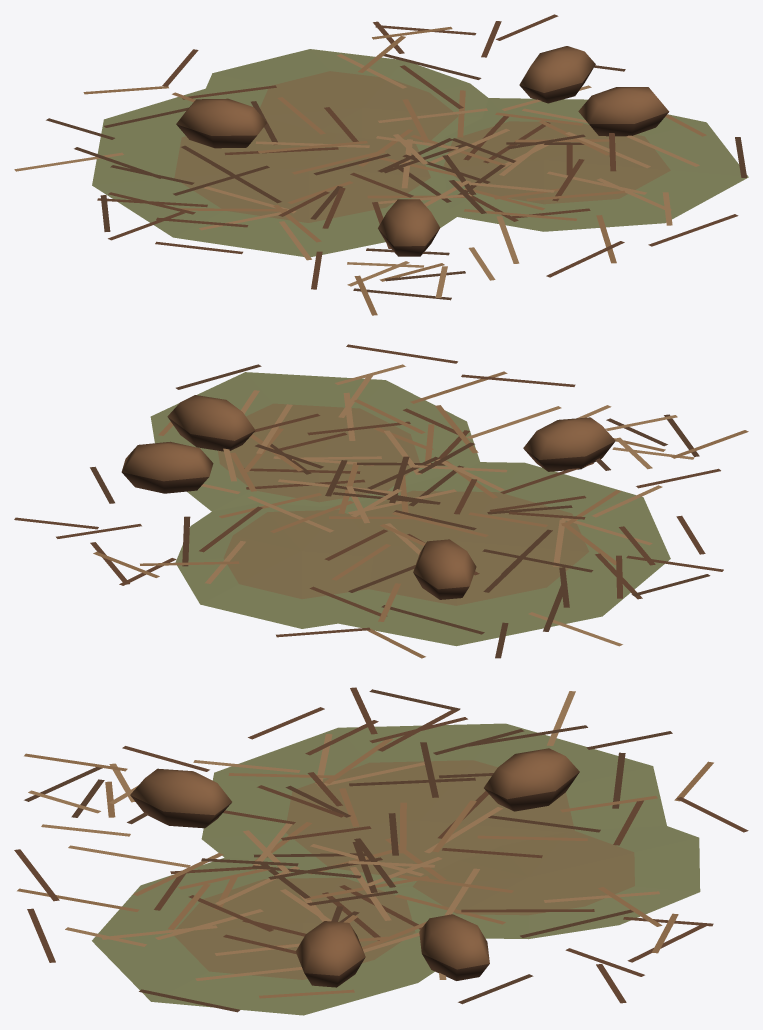
The model's file is ring_needles.glb.
The picture shows the model from 3 angles, top to bottom: view 1: azimuth 30°, elevation 25°; view 2: azimuth 150°, elevation 25°; view 3: azimuth 270°, elevation 25°; orthographic projection. The views are drawn at different scales.
Visible parts, largest first — view 1: body_nh, body_nl; view 2: body_nh, body_nl; view 3: body_nh, body_nl.
Part boxes in pixels (bbox=[...]): body_nh: bbox=[14, 14, 748, 315]; body_nl: bbox=[176, 46, 669, 256]; body_nh: bbox=[14, 344, 748, 658]; body_nl: bbox=[121, 395, 615, 599]; body_nh: bbox=[14, 687, 748, 1015]; body_nl: bbox=[130, 748, 579, 987].
Bounding box in the file's own units: 9.16 × 0.675 × 8.82.
